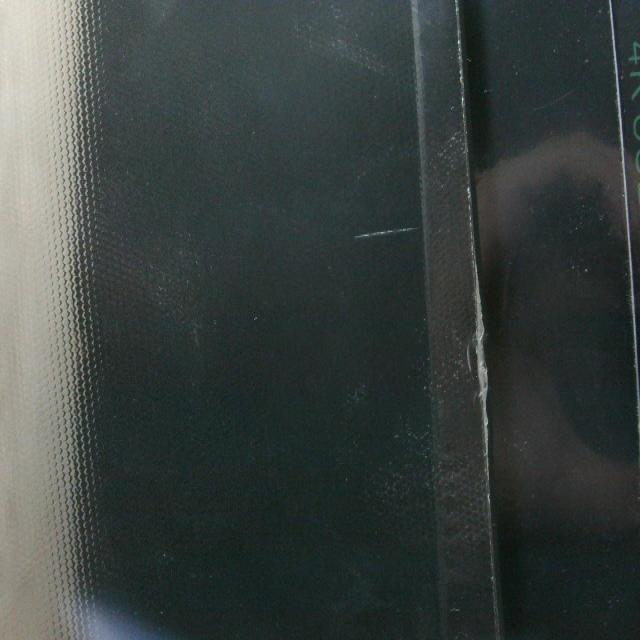edge_chip: (466, 245, 496, 460)
scratch: (349, 215, 421, 248)
